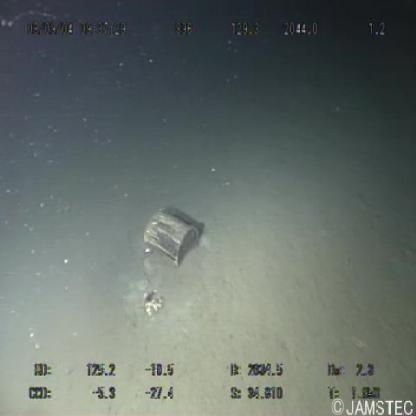Rác: (144, 208, 206, 266)
